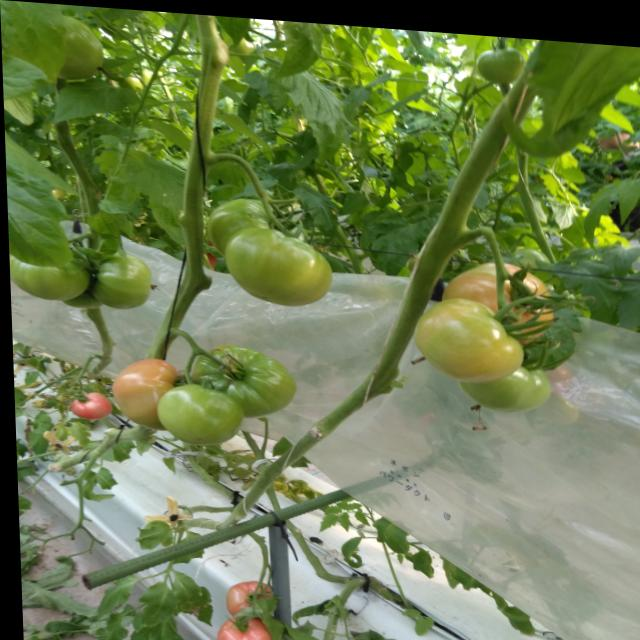yesil: (95, 164, 325, 331), (139, 343, 302, 458)
